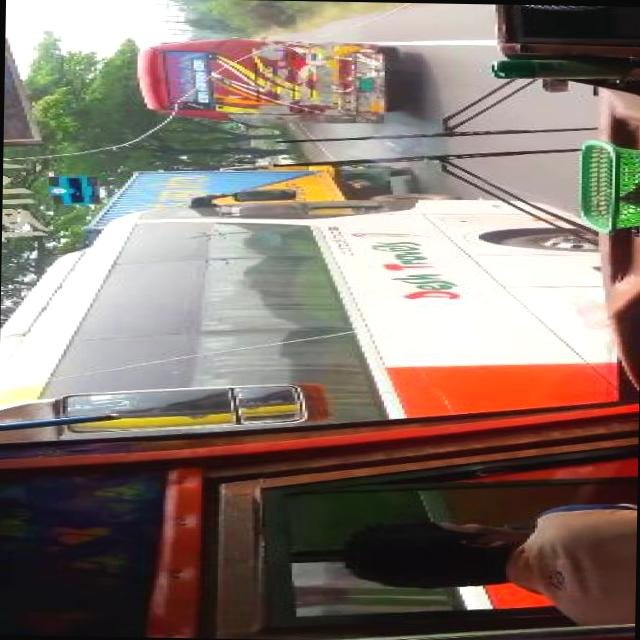bus: (4, 188, 604, 432), (141, 39, 387, 126)
truck: (106, 153, 434, 200)
